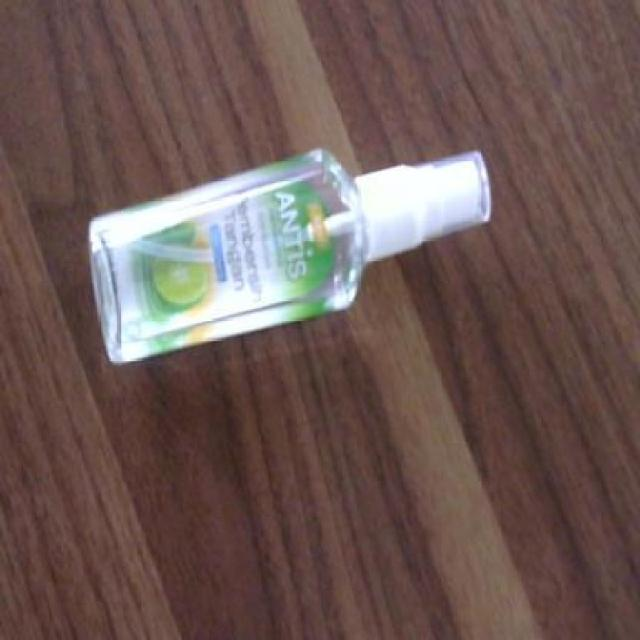Plastic: (90, 146, 493, 368)
